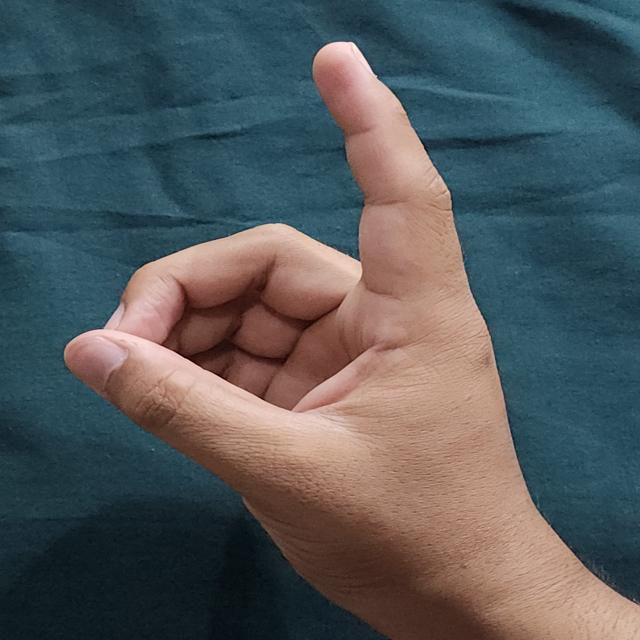ح: (46, 33, 640, 640)
